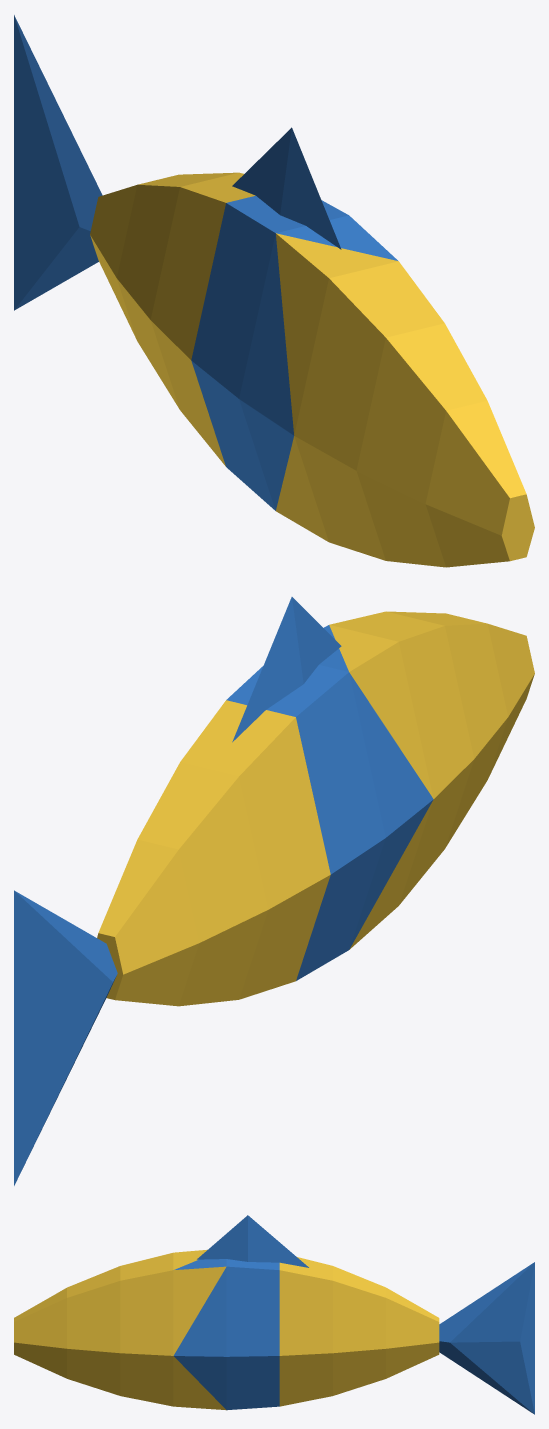
The model's file is Fish_0.glb.
3 renders of one model, top to bottom at view 1: azimuth 30°, elevation 25°; view 2: azimuth 150°, elevation 25°; view 3: azimuth 270°, elevation 25°, orthographic. The views are drawn at different scales.
Visible parts, largest first — view 1: Fish_0; view 2: Fish_0; view 3: Fish_0.
Boxes of the visible parts, x1,y1,x2,y2 form: Fish_0: (14,15,534,567); Fish_0: (14,597,534,1185); Fish_0: (14,1215,534,1414).
Size of the model in its own units: 0.07 by 0.1763 by 0.4165.
